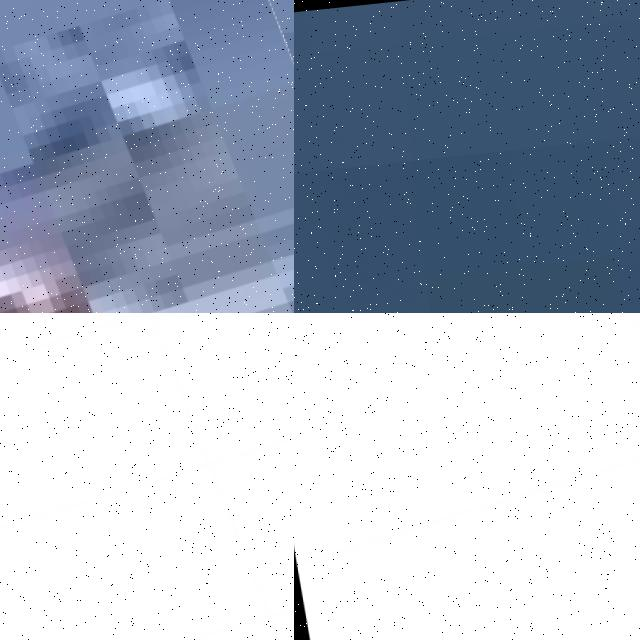0: (0, 0, 294, 313)
drone: (294, 313, 640, 640), (0, 313, 294, 640)
